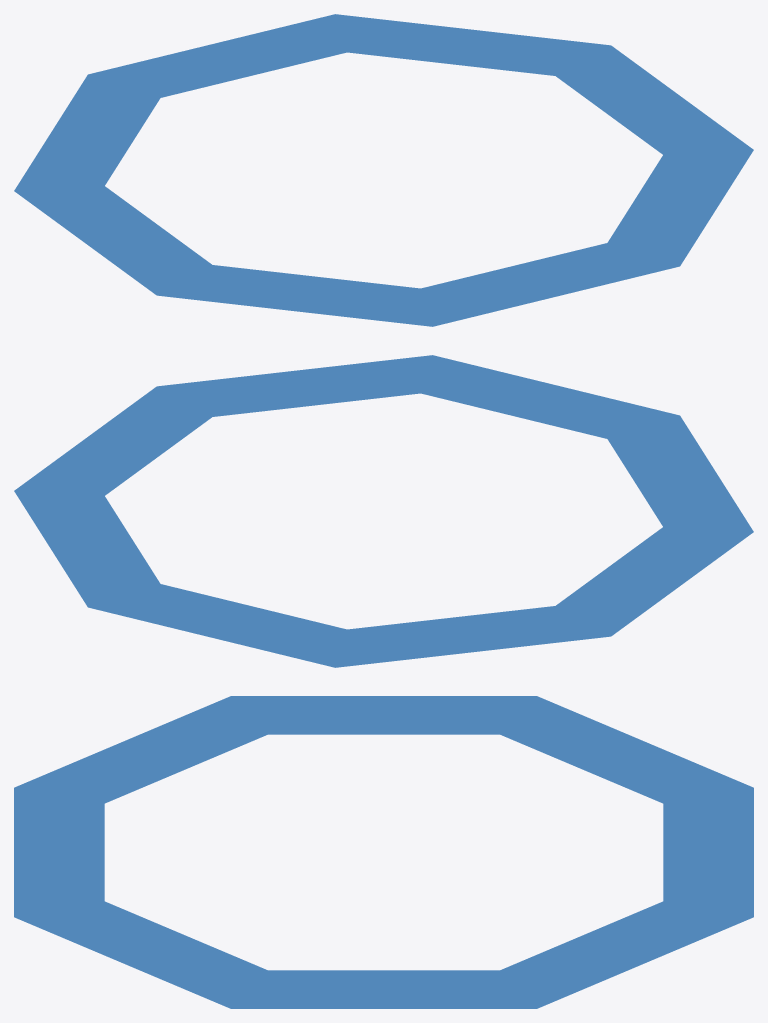
Rendered from plop 2.fbx.
The picture shows the model from 3 angles, top to bottom: view 1: azimuth 30°, elevation 25°; view 2: azimuth 150°, elevation 25°; view 3: azimuth 270°, elevation 25°; orthographic projection. The views are drawn at different scales.
Parts seen in each view (by area): view 1: tube; view 2: tube; view 3: tube.
Boxes of the visible parts, x1=… form: tube: x1=14, y1=14, x2=753, y2=326; tube: x1=14, y1=355, x2=753, y2=667; tube: x1=14, y1=696, x2=753, y2=1008.
Bounding box in the file's own units: 87.5 × 0 × 87.5.
Materials: 1 (1 with a texture image).
